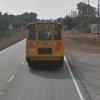Bus: (26, 19, 65, 71)
